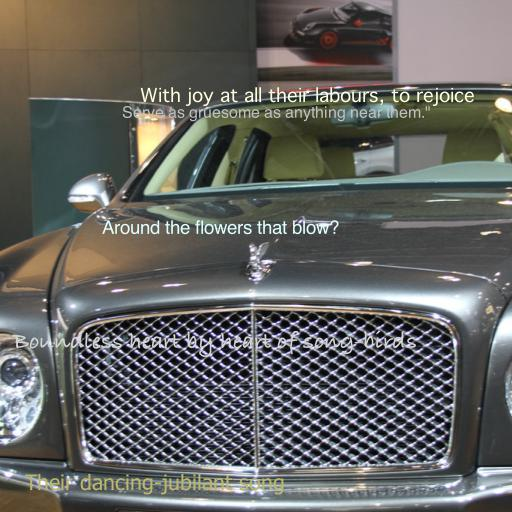Bradley Hand: (13, 330, 417, 358)
Geneva: (139, 87, 475, 106)
SignPainter: (121, 105, 431, 122), (101, 220, 339, 235)
Tahoma: (25, 473, 285, 495)
